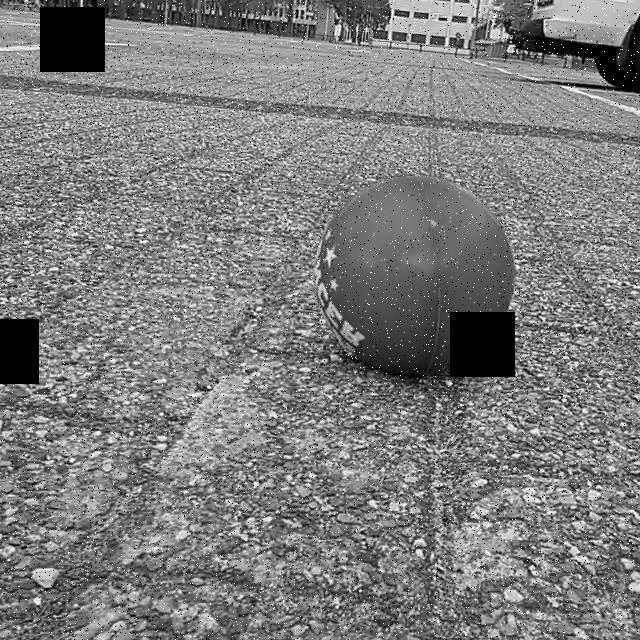ball: (310, 173, 520, 381)
